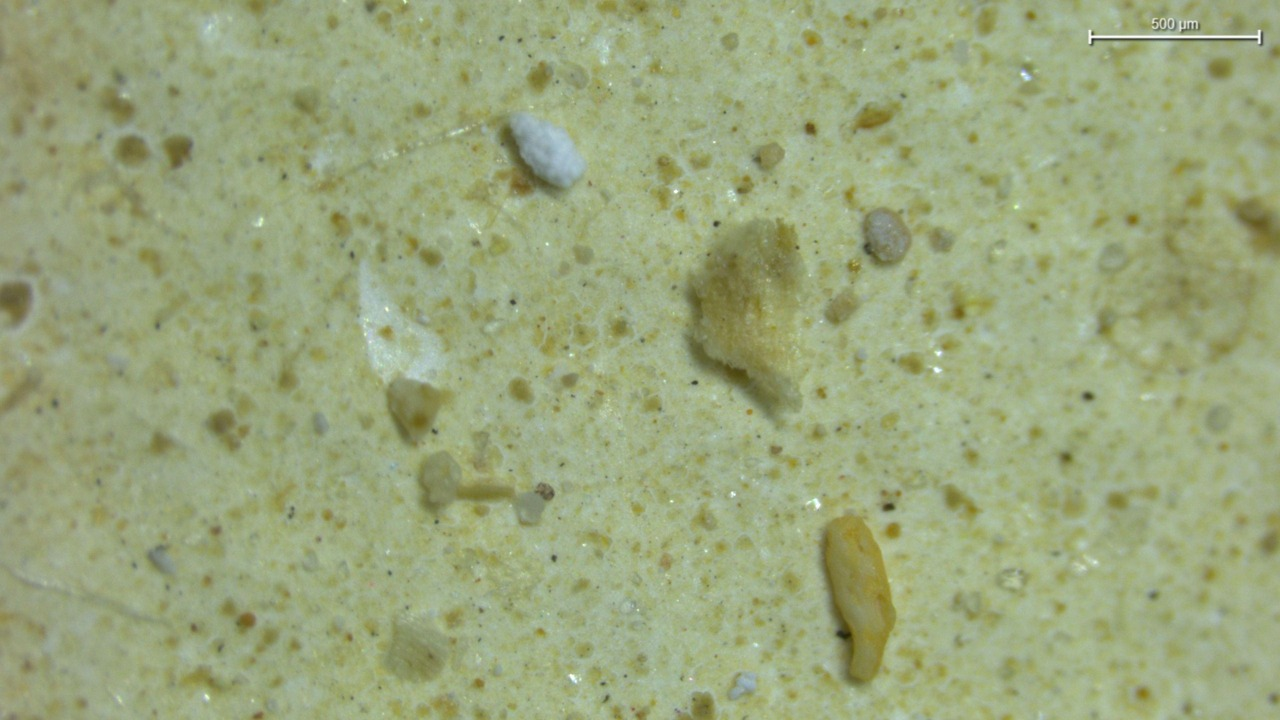microplastic_fragment: (689, 219, 813, 415), (824, 516, 896, 681), (508, 112, 586, 188), (385, 616, 452, 681), (387, 377, 442, 442), (862, 208, 911, 264), (420, 451, 461, 507), (514, 492, 545, 524)
